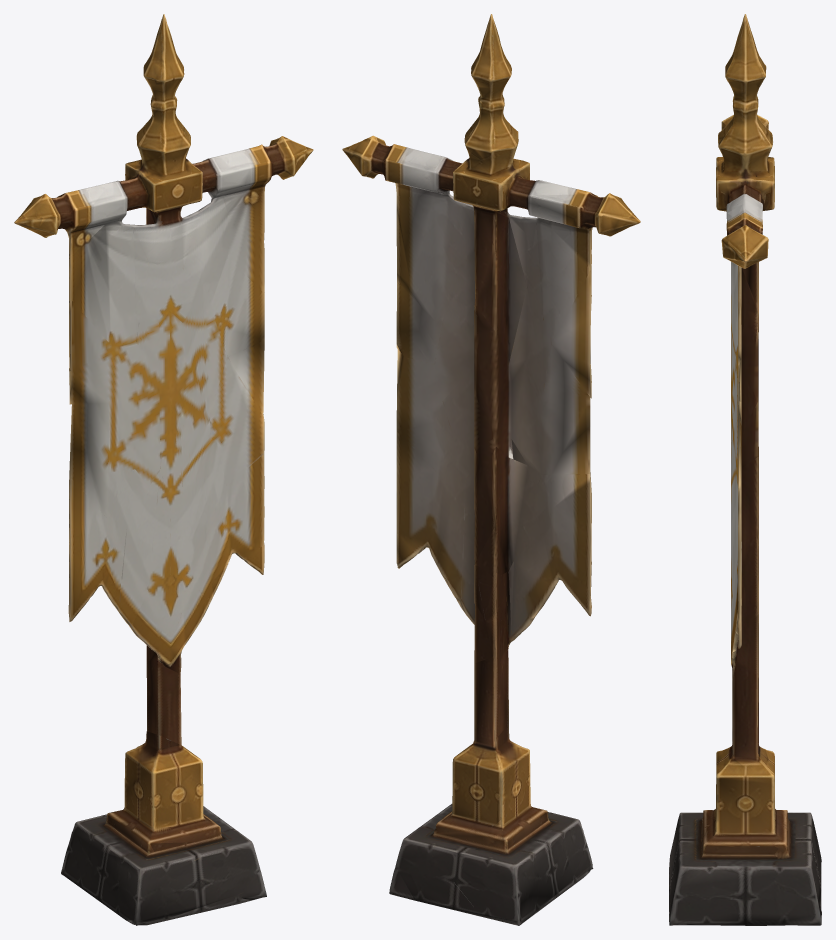
The model's file is estandarte.fbx.
3 views of the same model, side by side, from view 1: azimuth 30°, elevation 25°; view 2: azimuth 150°, elevation 25°; view 3: azimuth 270°, elevation 25° (orthographic).
Parts seen in each view (by area): view 1: mesh_node; view 2: mesh_node; view 3: mesh_node.
Boxes of the visible parts, left/top/right/bottom form: mesh_node: left=14, top=14, right=313, bottom=925; mesh_node: left=342, top=14, right=640, bottom=925; mesh_node: left=669, top=14, right=821, bottom=925.
Bounding box in the file's own units: 68.14 × 190 × 29.89.
Materials: 1 (1 with a texture image).
